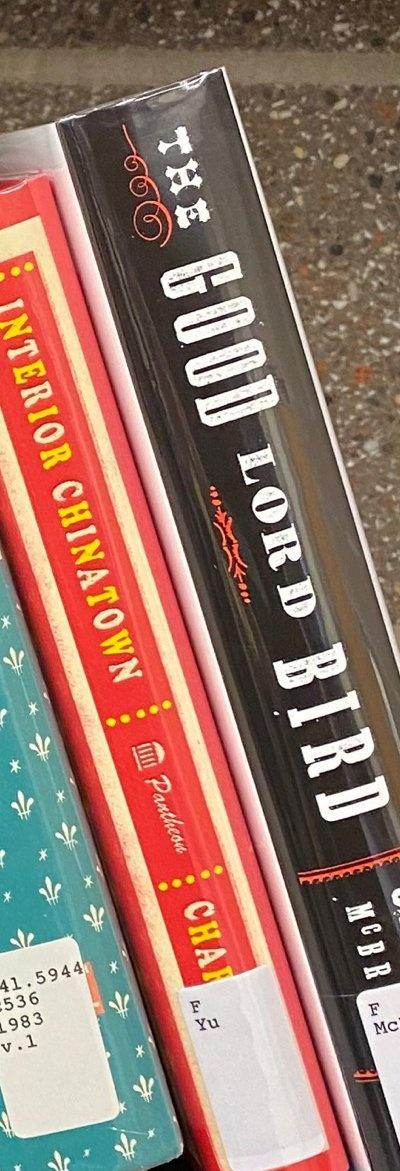call_number: (178, 963, 331, 1171)
